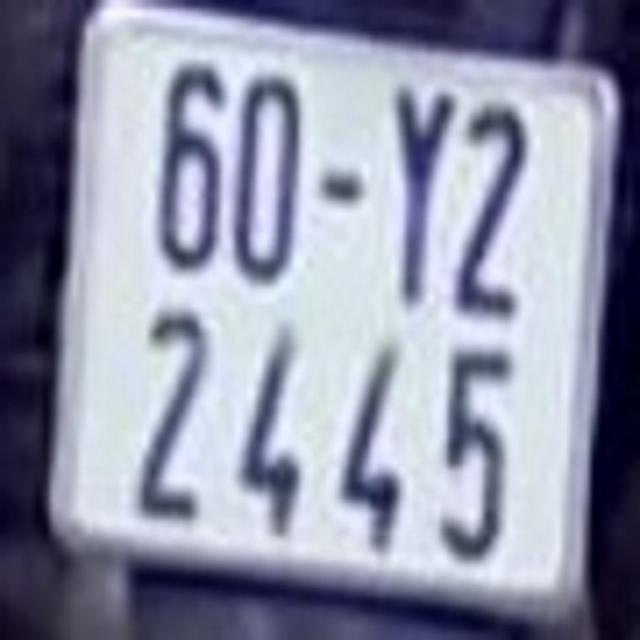0: (231, 59, 300, 284)
2: (456, 90, 528, 320), (135, 304, 209, 518)
4: (241, 314, 307, 540), (342, 322, 406, 553)
5: (439, 334, 513, 560)
6: (163, 59, 224, 272)
Y: (386, 75, 450, 303)
